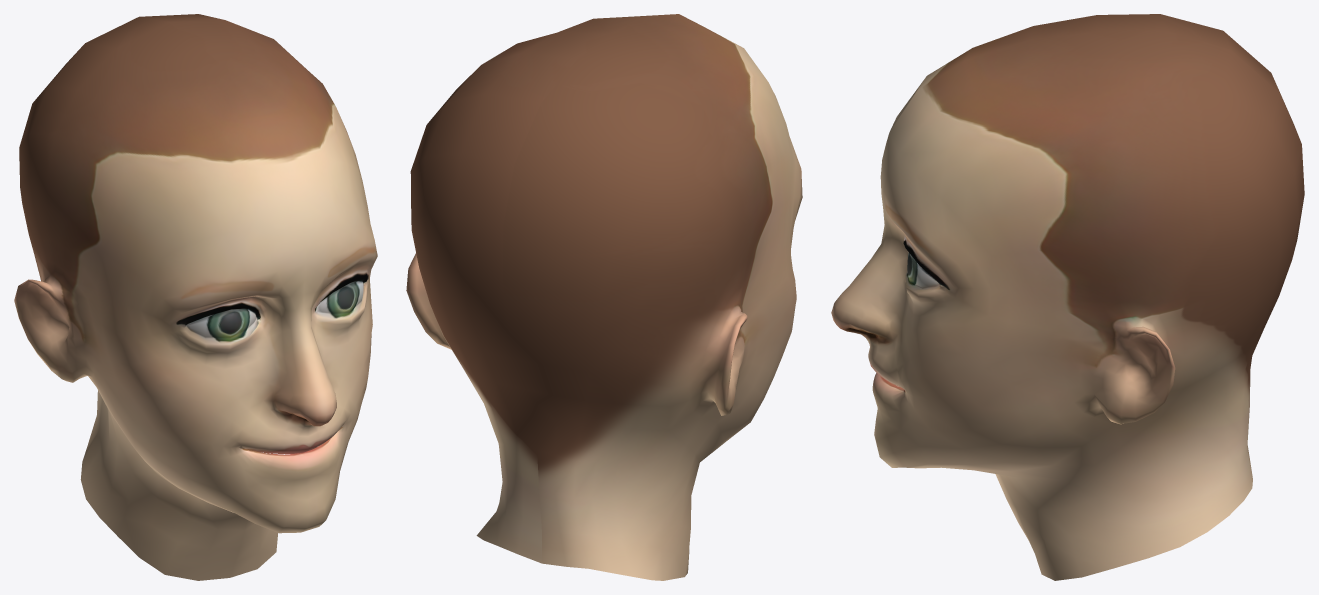
File: ZuckHead.glb
3 renders of one model, left to right at view 1: azimuth 30°, elevation 25°; view 2: azimuth 150°, elevation 25°; view 3: azimuth 270°, elevation 25°, orthographic. The views are drawn at different scales.
Parts seen in each view (by area): view 1: zuckHead; view 2: zuckHead; view 3: zuckHead.
Boxes of the visible parts, x1=… form: zuckHead: x1=14, y1=14, x2=377, y2=580; zuckHead: x1=406, y1=14, x2=802, y2=580; zuckHead: x1=831, y1=14, x2=1304, y2=580.
Bounding box in the file's own units: 1.25 × 2 × 1.62.
Materials: 1 (1 with a texture image).
